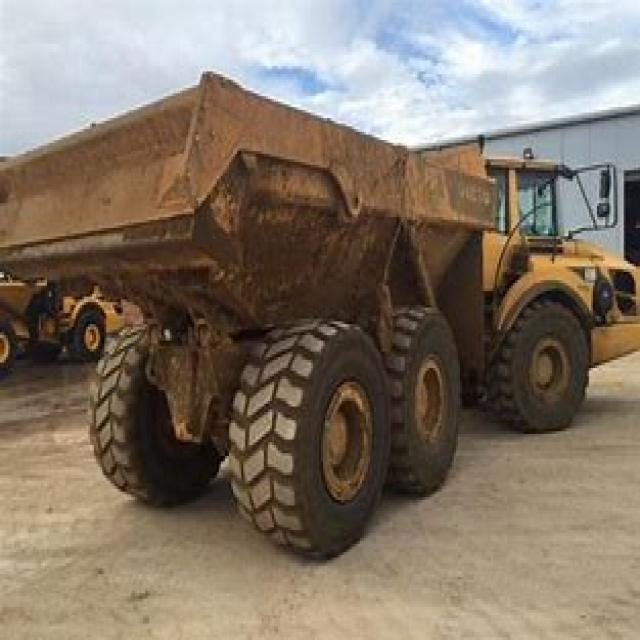dump_truck: (6, 72, 638, 536)
